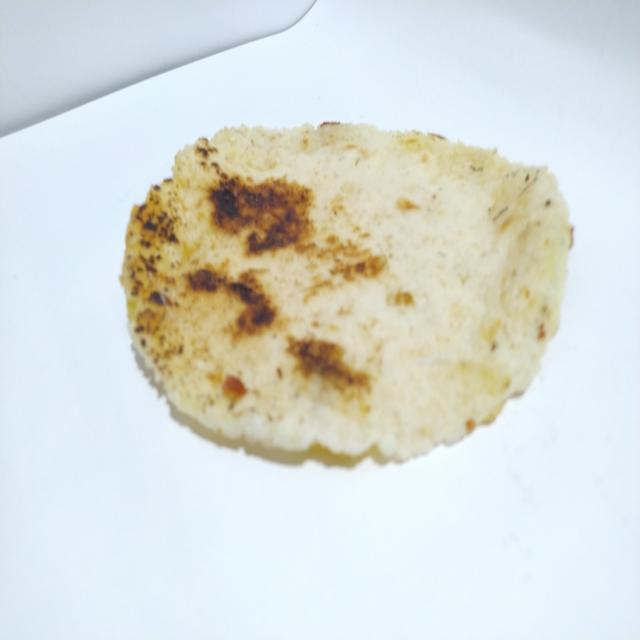Food: (107, 94, 579, 469)
